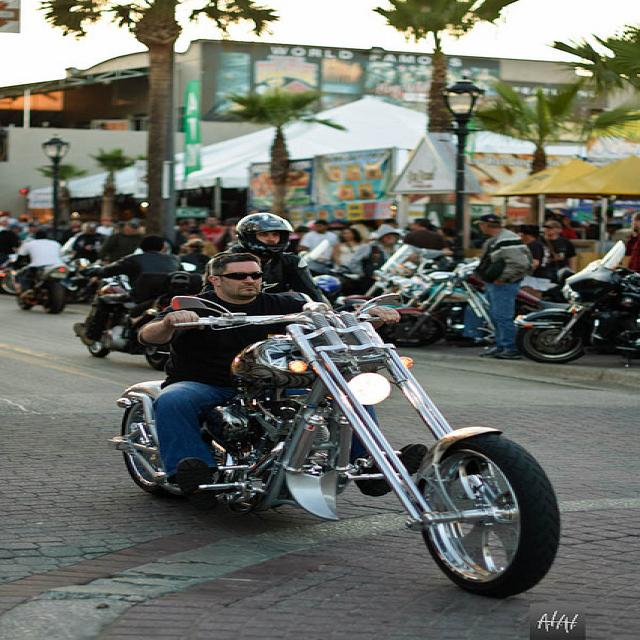motor: (107, 293, 560, 600), (513, 241, 637, 365), (88, 270, 204, 369), (373, 262, 479, 346), (368, 245, 453, 299), (301, 240, 372, 298), (16, 263, 72, 314), (84, 276, 130, 331), (63, 257, 104, 304), (332, 300, 366, 310)
